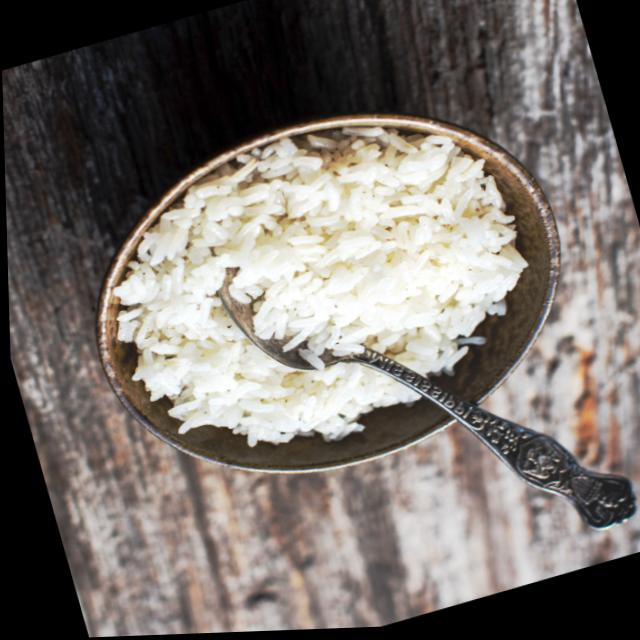rice: (76, 81, 567, 495)
